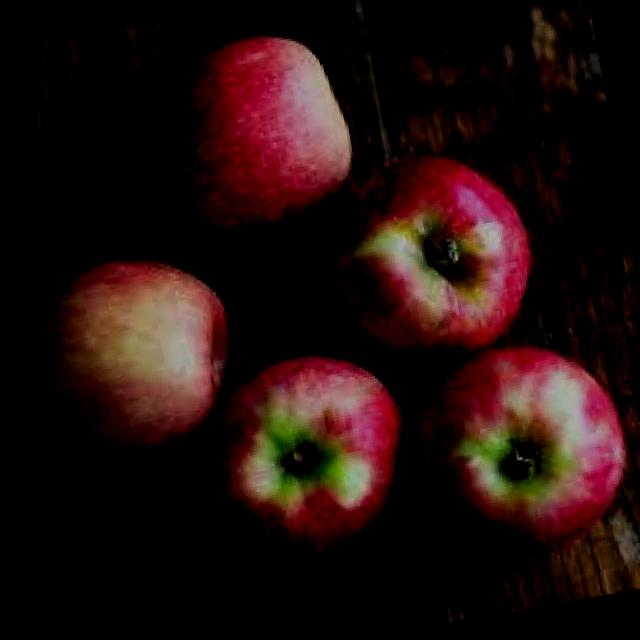Apple: (393, 325, 640, 570), (10, 236, 252, 485), (183, 336, 424, 576), (307, 137, 547, 376), (142, 19, 365, 258)
